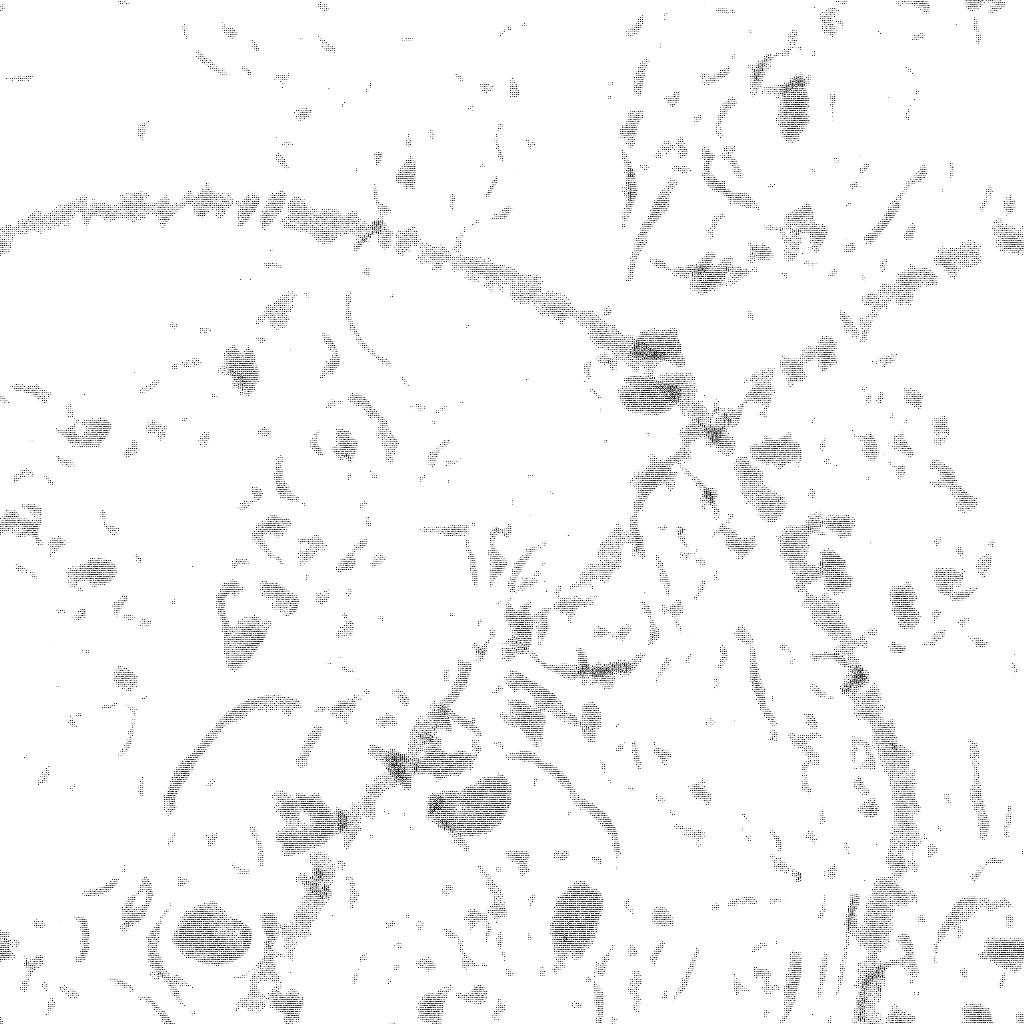axone: (419, 773, 523, 844), (167, 899, 257, 967), (544, 877, 604, 969), (269, 787, 342, 862), (216, 607, 272, 676), (611, 372, 684, 418), (624, 321, 693, 368), (495, 691, 549, 749), (776, 74, 815, 149), (977, 932, 1024, 977)
